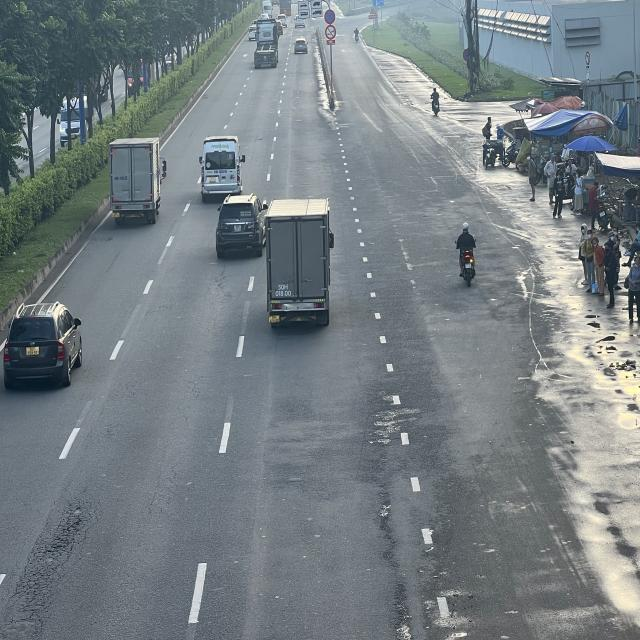car: (3, 303, 85, 389), (214, 195, 266, 257)
container: (254, 19, 279, 69)
truck: (264, 197, 333, 324), (109, 137, 168, 223)
van: (198, 135, 245, 199)
